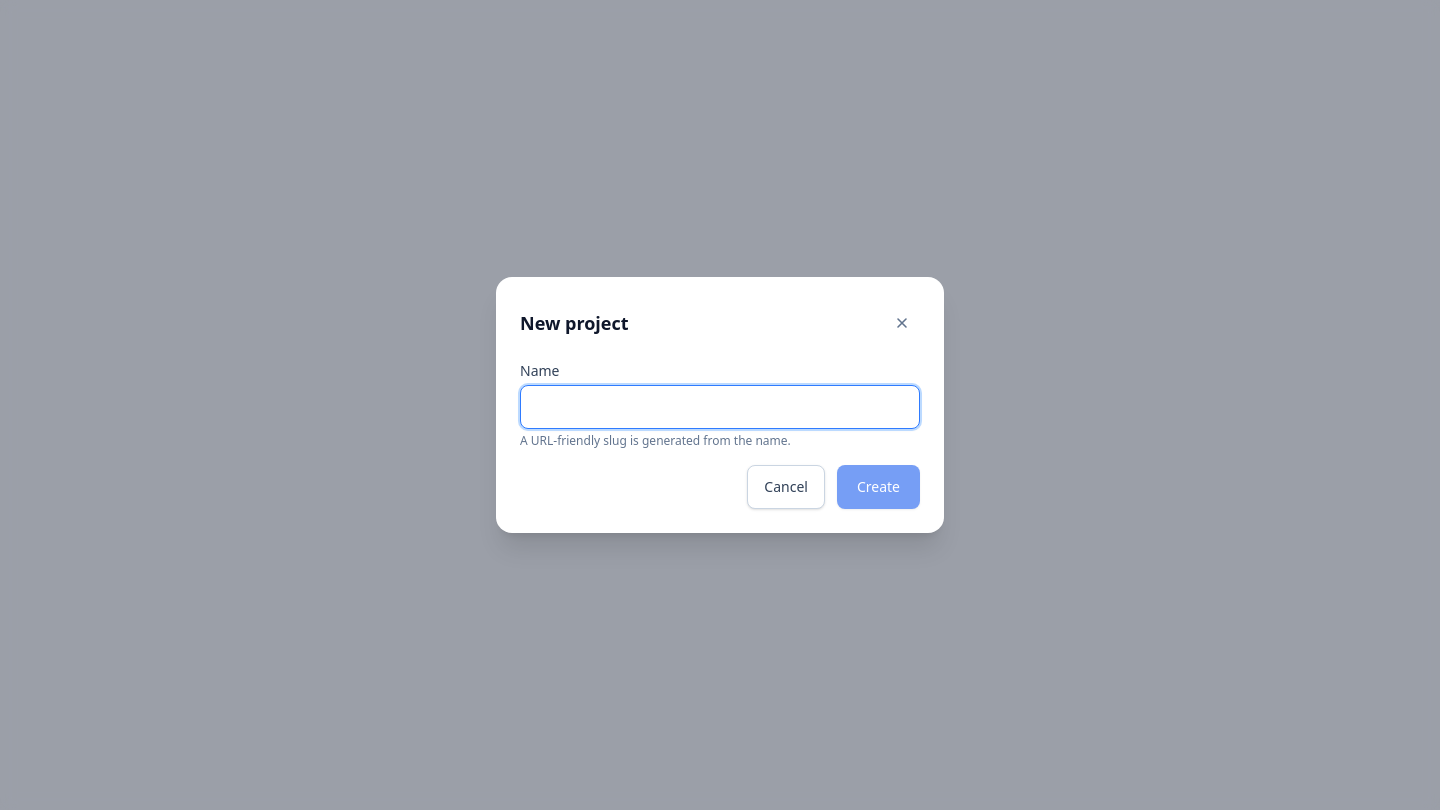
Test: CreateProjectModal › disables the Create button until a name is entered
This screenshot has width=1440, height=810.
expect the button "Create" is disabled: met, box [837, 465, 920, 509]
In the field labelled "Name": (720, 407) [520, 385, 920, 429], type "Kitchen"
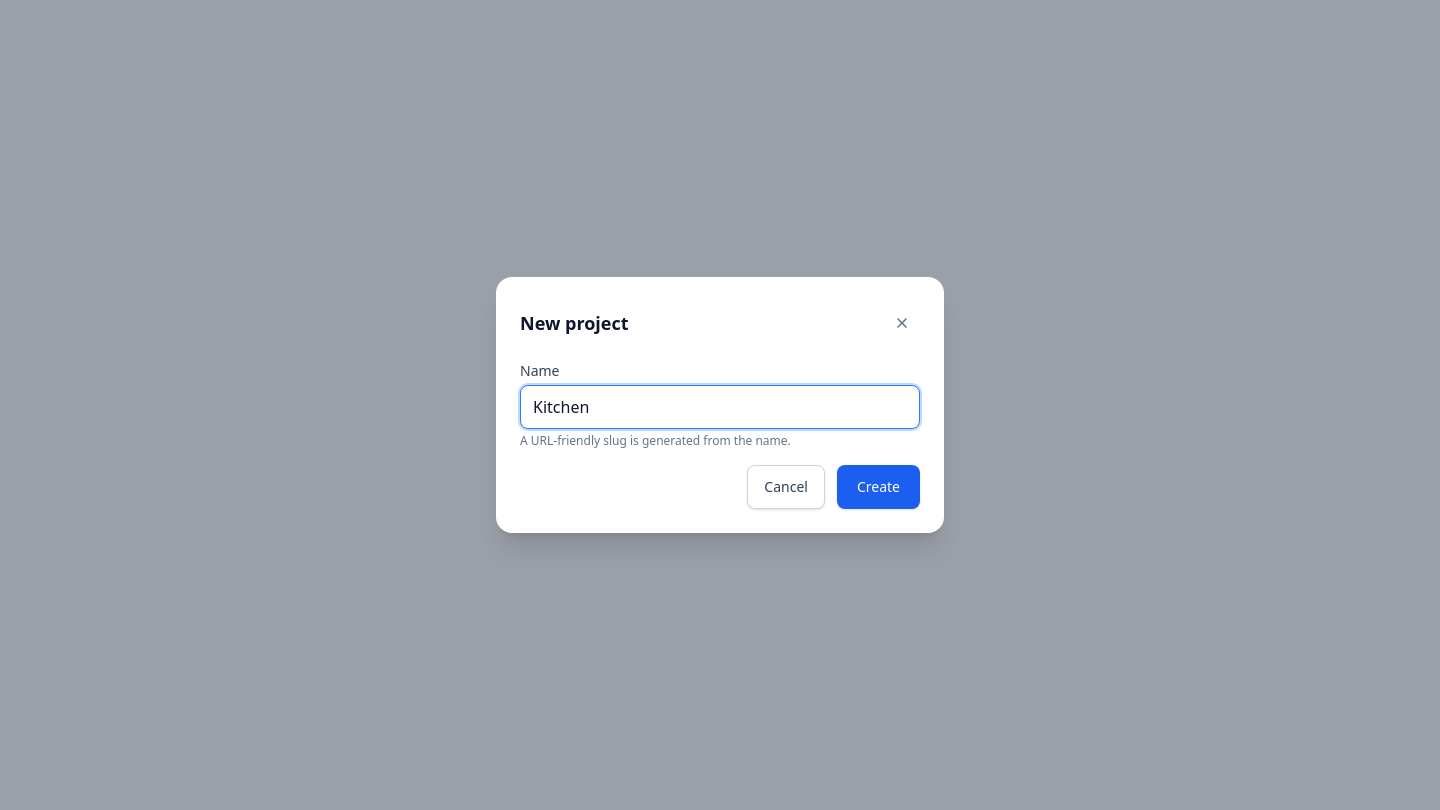
expect the button "Create" is enabled: met, box [837, 465, 920, 509]
